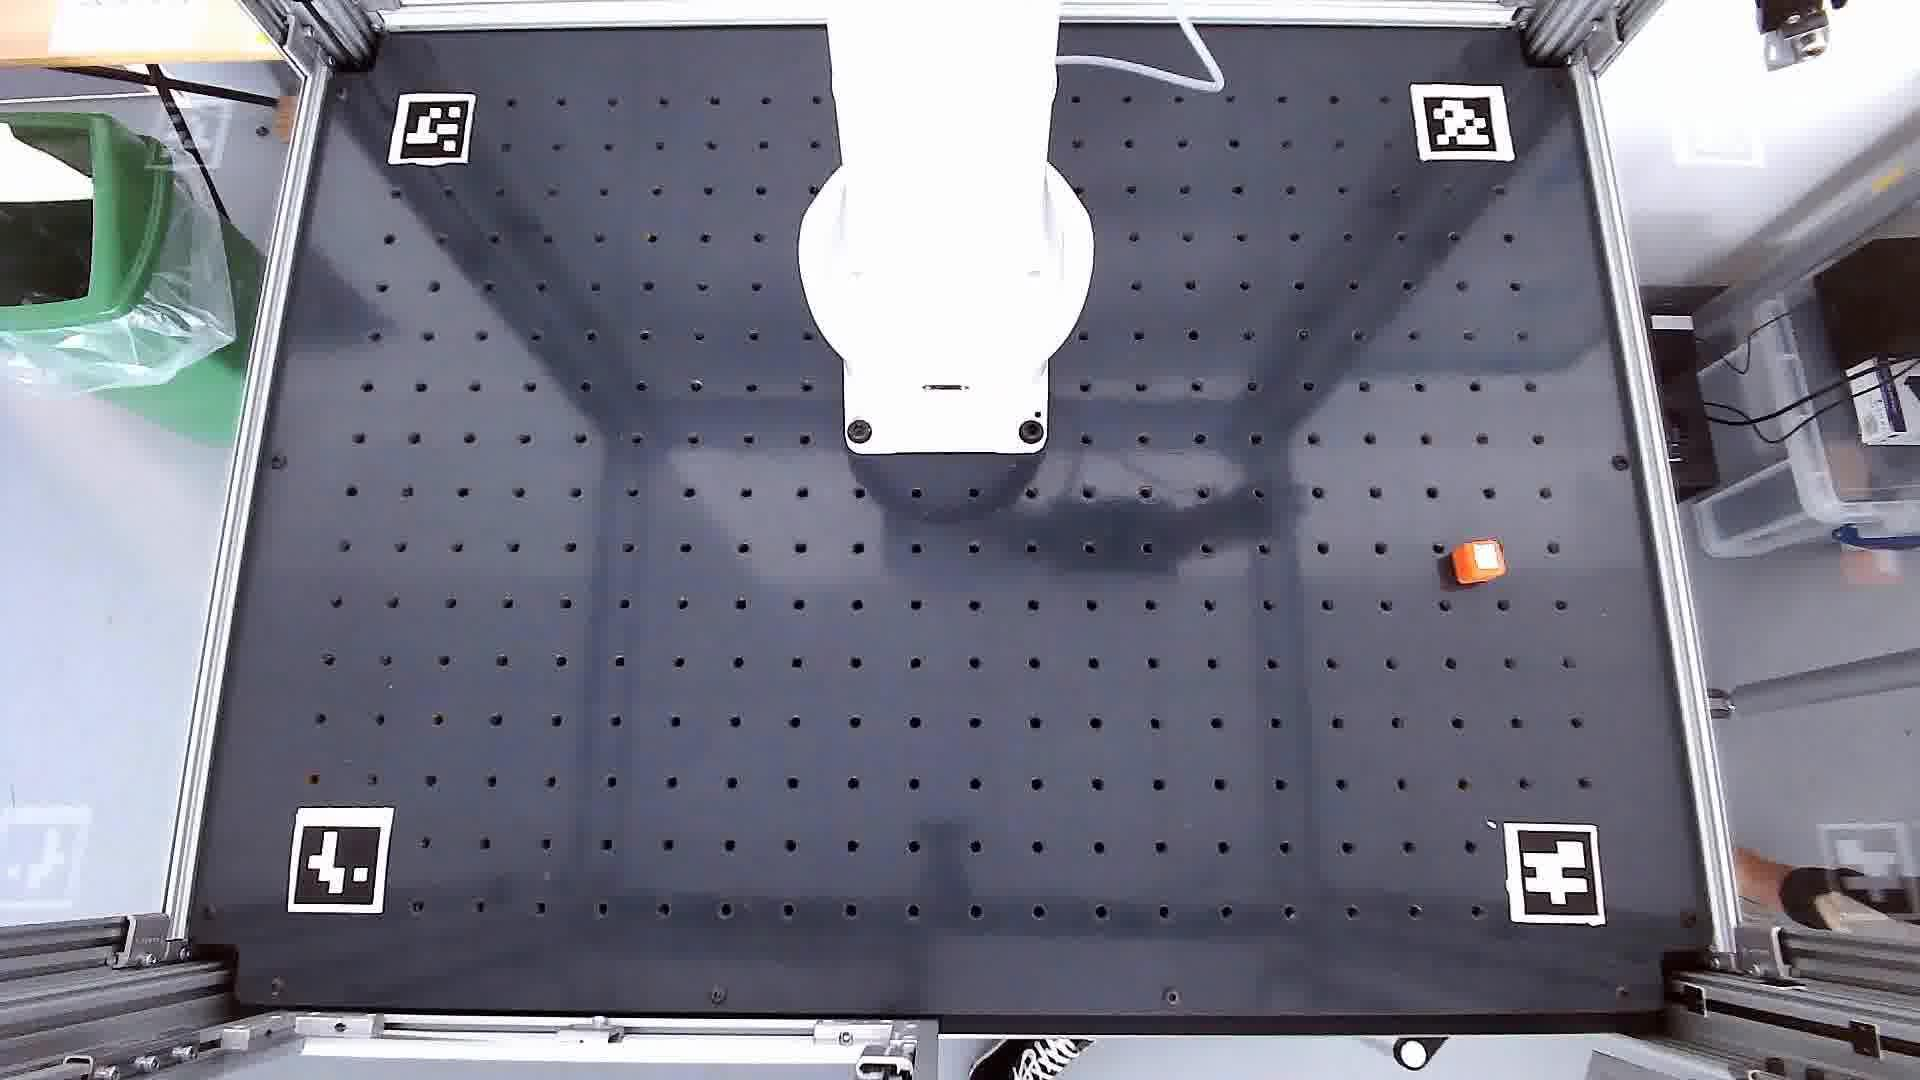sticker: (1452, 533, 1507, 584)
white: (1466, 543, 1501, 572)
